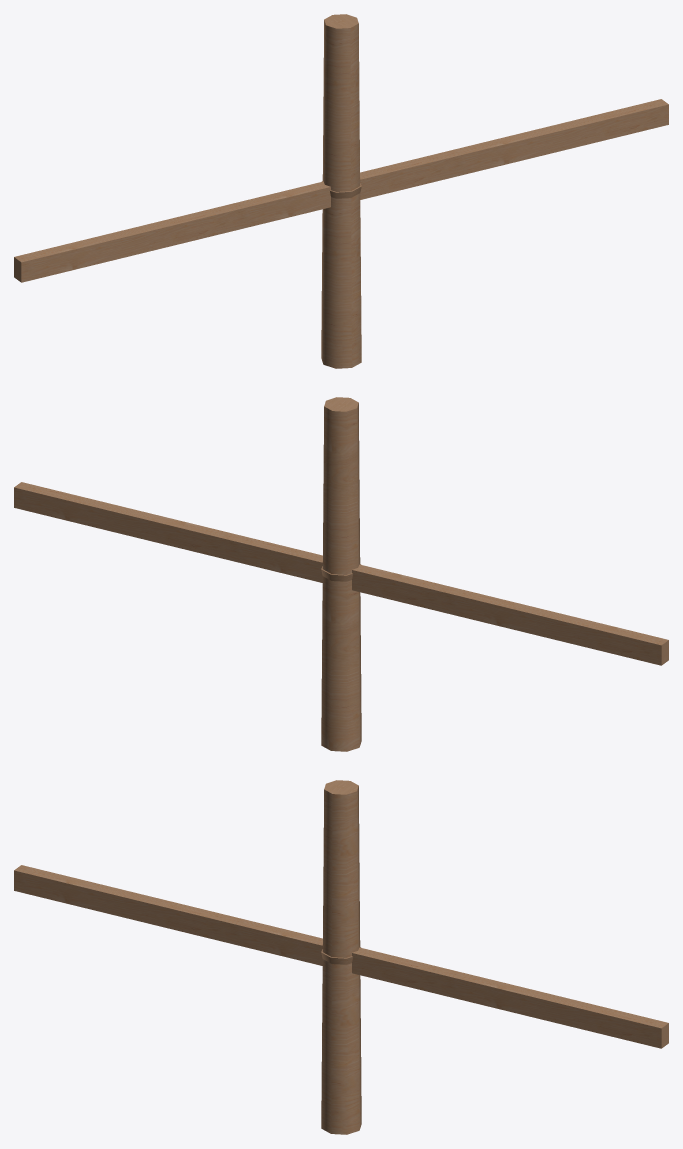
File: Fence_Segment-v1.0.0.glb
The picture shows the model from 3 angles, top to bottom: view 1: azimuth 30°, elevation 25°; view 2: azimuth 150°, elevation 25°; view 3: azimuth 330°, elevation 25°; orthographic projection.
Visible parts, largest first — view 1: Geo_Rail1, Geo_LeftPost, Geo_Rail3, Geo_Rail2, Geo_RightPost; view 2: Geo_Rail3, Geo_LeftPost, Geo_Rail2, Geo_Rail1, Geo_RightPost; view 3: Geo_Rail3, Geo_Rail2, Geo_RightPost, Geo_Rail1, Geo_LeftPost.
Part boxes in pixels (bbox=[...]): Geo_Rail1: bbox=[14, 104, 668, 282]; Geo_LeftPost: bbox=[321, 14, 358, 368]; Geo_Rail3: bbox=[14, 99, 668, 282]; Geo_Rail2: bbox=[14, 104, 668, 281]; Geo_RightPost: bbox=[325, 14, 361, 367]; Geo_Rail3: bbox=[14, 482, 668, 664]; Geo_LeftPost: bbox=[324, 397, 361, 751]; Geo_Rail2: bbox=[14, 487, 668, 663]; Geo_Rail1: bbox=[14, 488, 668, 665]; Geo_RightPost: bbox=[321, 397, 357, 750]; Geo_Rail3: bbox=[14, 865, 668, 1047]; Geo_Rail2: bbox=[14, 870, 668, 1046]; Geo_RightPost: bbox=[324, 780, 361, 1134]; Geo_Rail1: bbox=[14, 870, 668, 1048]; Geo_LeftPost: bbox=[321, 780, 358, 1133].
Size of the model in its own units: 163835 by 81918 by 9175.
Materials: 2 (2 with a texture image).
